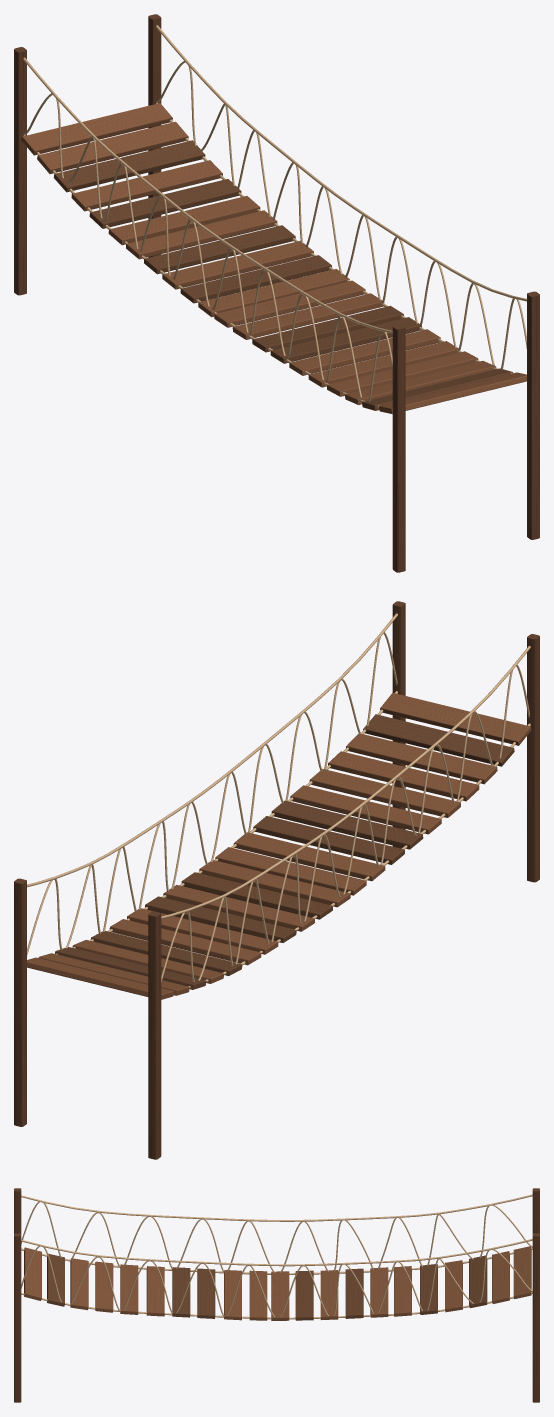
File: Bridge.fbx
3 views of the same model, one above another, from view 1: azimuth 30°, elevation 25°; view 2: azimuth 150°, elevation 25°; view 3: azimuth 270°, elevation 25° (orthographic). The views are drawn at different scales.
Parts seen in each view (by area): view 1: Bridge; view 2: Bridge; view 3: Bridge.
Part boxes in pixels (x1=…): Bridge: x1=14, y1=14, x2=539, y2=572; Bridge: x1=14, y1=601, x2=539, y2=1159; Bridge: x1=14, y1=1188, x2=539, y2=1402.
Size of the model in its own units: 4.61 by 7.46 by 21.38.
